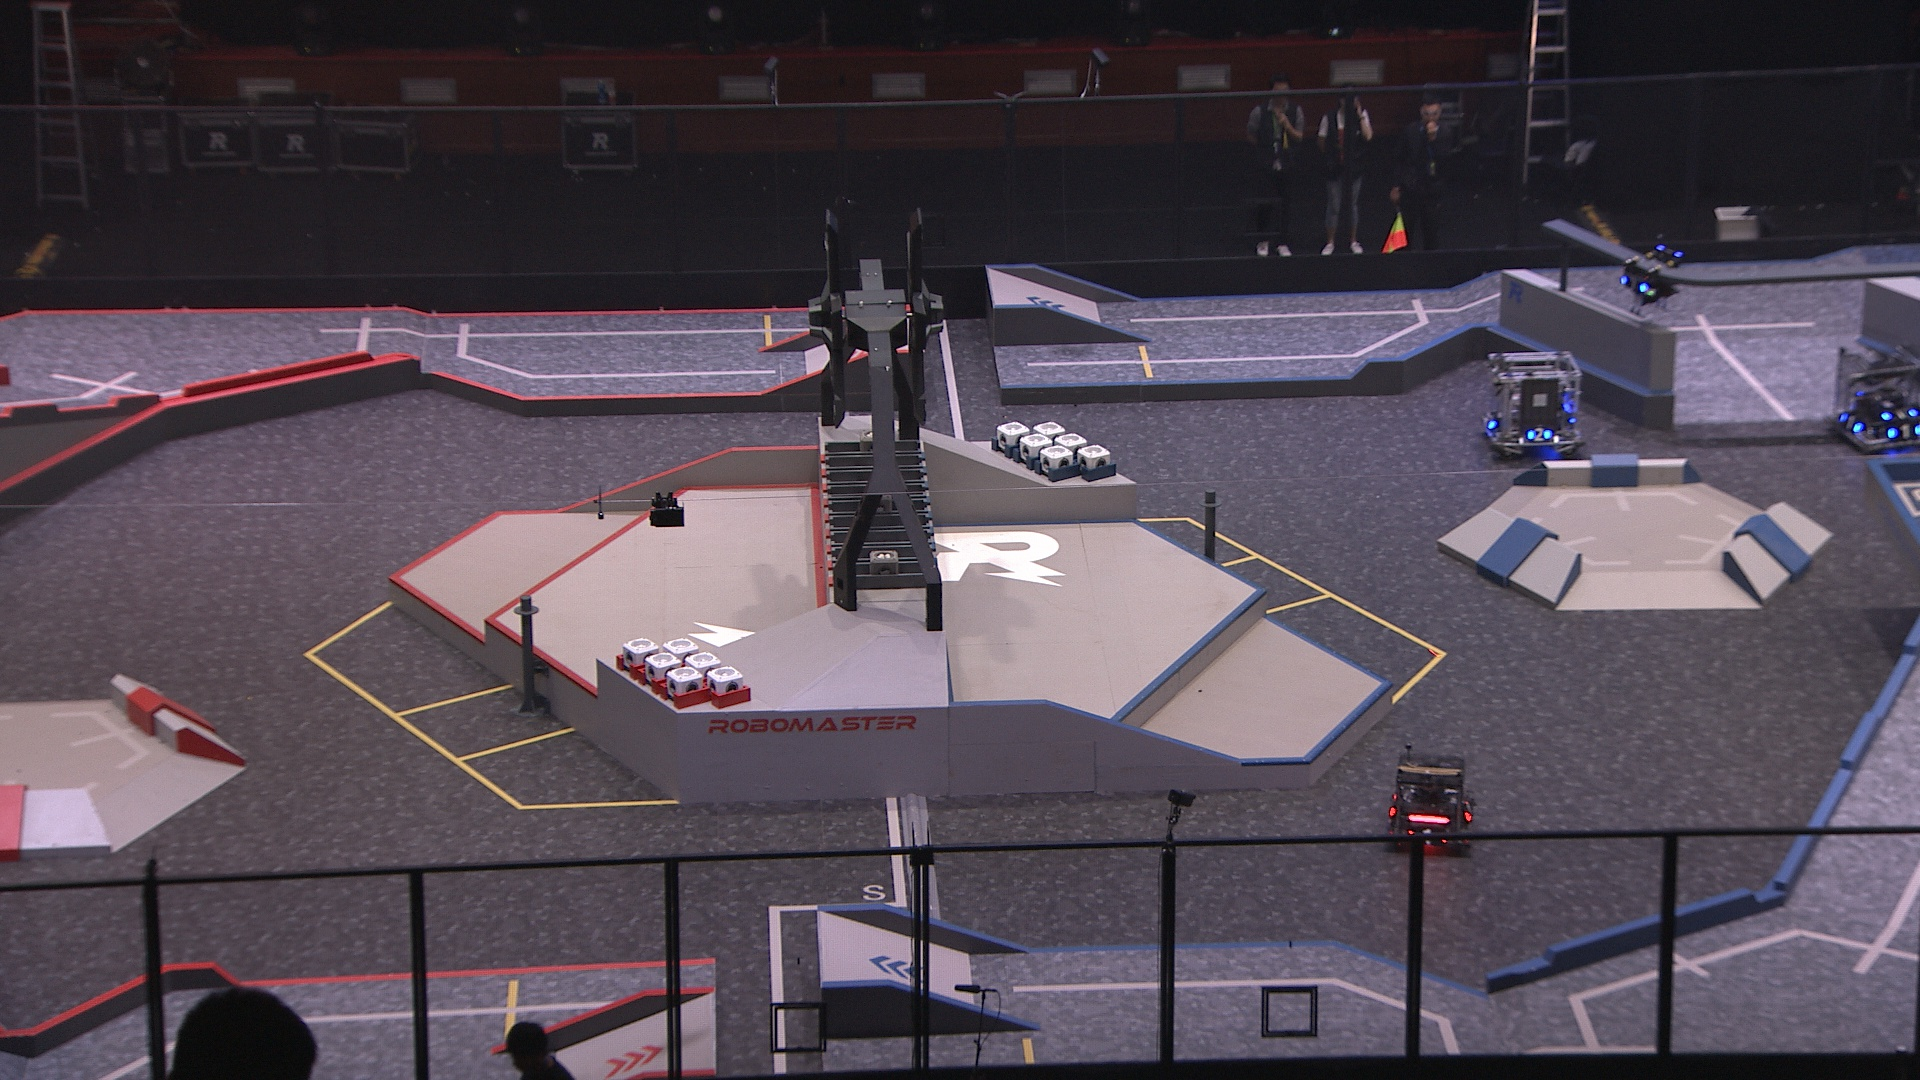armor: (1408, 825, 1451, 847), (1618, 270, 1648, 295), (1882, 404, 1917, 425), (1884, 422, 1920, 442), (1837, 410, 1866, 434), (1524, 422, 1553, 443), (1458, 800, 1477, 823)
car: (1378, 740, 1481, 856), (1484, 345, 1585, 463), (1826, 345, 1920, 454)
watcher: (1617, 225, 1688, 318)
